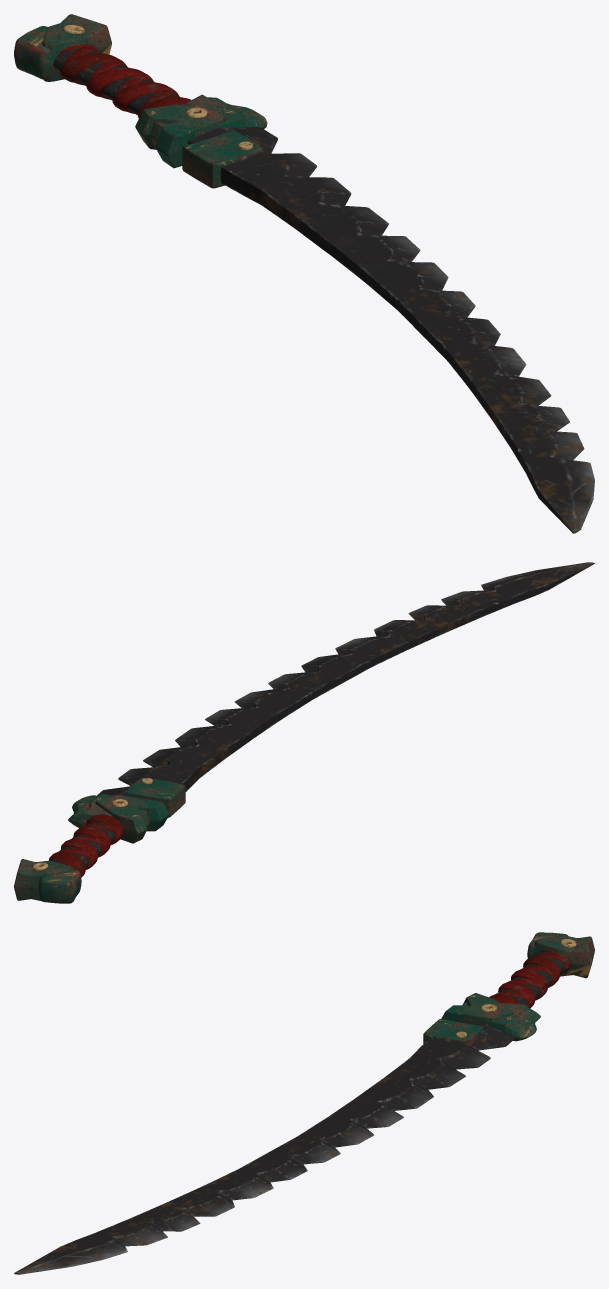
The model's file is Sword_Weapon.fbx.
The picture shows the model from 3 angles, top to bottom: view 1: azimuth 30°, elevation 25°; view 2: azimuth 150°, elevation 25°; view 3: azimuth 330°, elevation 25°; orthographic projection. The views are drawn at different scales.
Parts seen in each view (by area): view 1: polySurface3, pCube2, pHelix2, pCube1, pCube5, pCube4, pCube3, pCylinder3, pHelix1; view 2: polySurface3, pCube2, pHelix2, pCube5, pCube1, pCube4, pCube3, pHelix1, pCylinder3; view 3: polySurface3, pHelix2, pCube5, pCube2, pCube3, pCube1, pCylinder3, pHelix1.
Part boxes in pixels (bbox=[...]): polySurface3: bbox=[188, 127, 594, 533]; pCube2: bbox=[135, 104, 225, 168]; pHelix2: bbox=[59, 43, 190, 118]; pCube1: bbox=[182, 130, 263, 188]; pCube5: bbox=[42, 14, 111, 81]; pCube4: bbox=[14, 26, 51, 79]; pCube3: bbox=[150, 94, 267, 146]; pCylinder3: bbox=[53, 48, 178, 115]; pHelix1: bbox=[64, 46, 177, 113]; polySurface3: bbox=[97, 562, 594, 799]; pCube2: bbox=[95, 795, 168, 843]; pHelix2: bbox=[49, 814, 123, 877]; pCube5: bbox=[14, 859, 74, 900]; pCube1: bbox=[125, 777, 185, 817]; pCube4: bbox=[38, 869, 81, 903]; pCube3: bbox=[68, 793, 149, 828]; pHelix1: bbox=[55, 823, 115, 870]; pCylinder3: bbox=[50, 817, 124, 869]; polySurface3: bbox=[14, 1019, 515, 1274]; pHelix2: bbox=[489, 950, 571, 1008]; pCube5: bbox=[533, 935, 594, 978]; pCube2: bbox=[441, 993, 513, 1021]; pCube3: bbox=[463, 1001, 540, 1041]; pCube1: bbox=[423, 1019, 483, 1045]; pCylinder3: bbox=[498, 952, 565, 1005]; pHelix1: bbox=[495, 953, 564, 1000].
Bounding box in the file's own units: 127 × 26.9 × 726.
